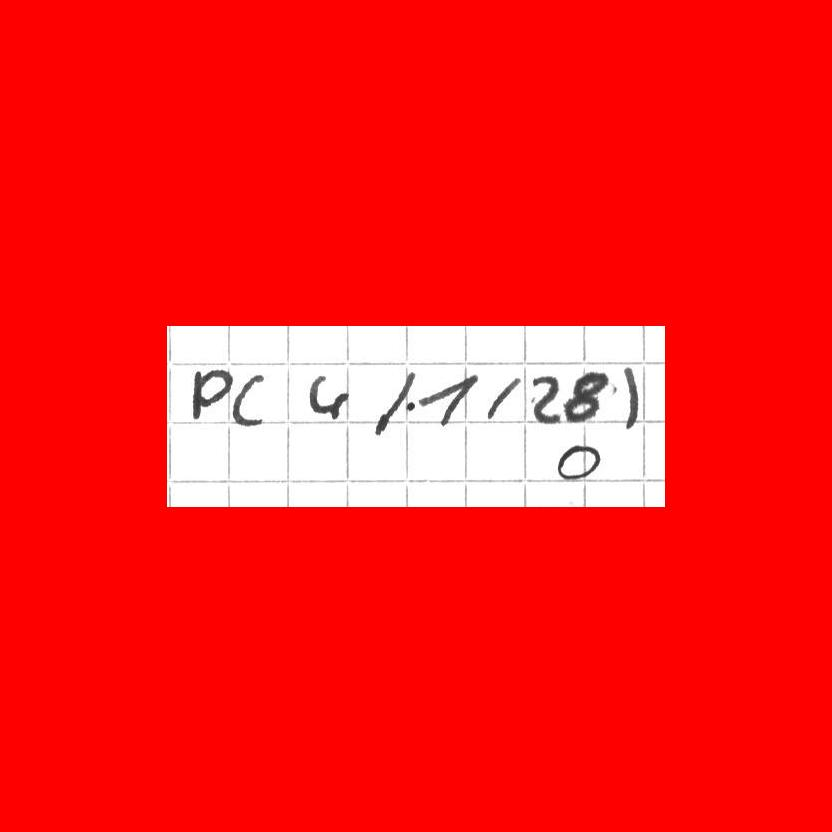Char: (416, 369, 481, 429), (374, 368, 415, 441), (189, 364, 233, 423), (562, 368, 608, 424), (305, 370, 350, 425), (230, 370, 269, 432), (553, 439, 603, 483), (481, 373, 523, 424), (529, 370, 562, 425), (619, 360, 643, 433), (402, 395, 417, 416)
